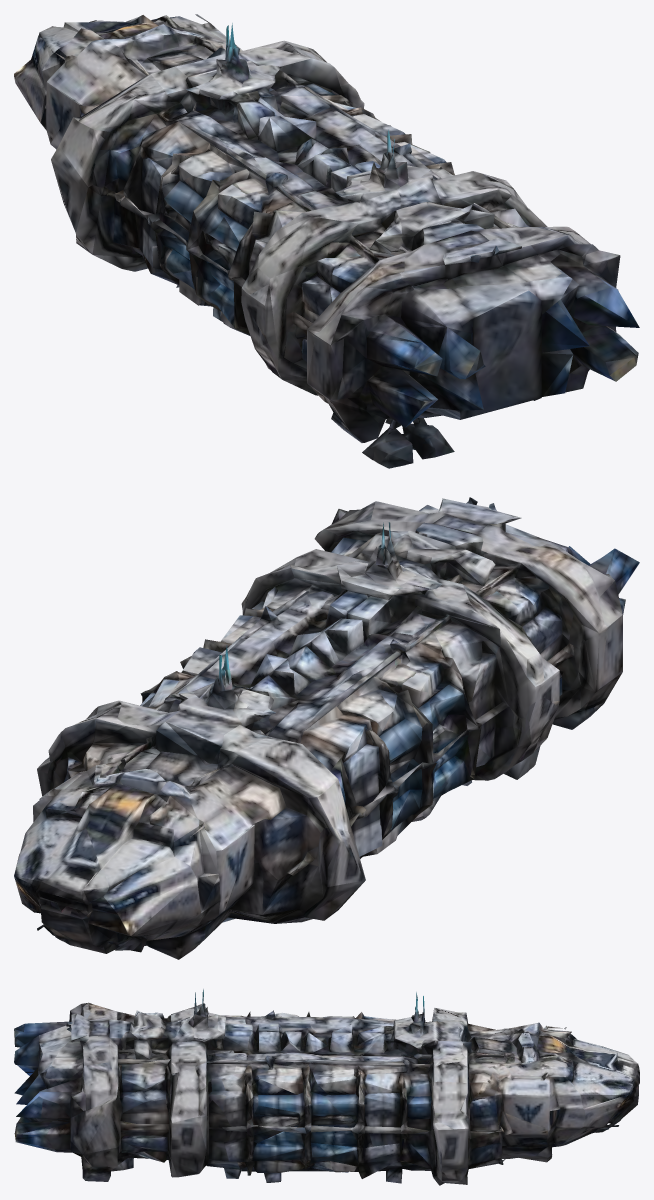
File: big_tanker.glb
The picture shows the model from 3 angles, top to bottom: view 1: azimuth 30°, elevation 25°; view 2: azimuth 150°, elevation 25°; view 3: azimuth 270°, elevation 25°; orthographic projection. The views are drawn at different scales.
Visible parts, largest first — view 1: bigtanker; view 2: bigtanker; view 3: bigtanker.
Boxes of the visible parts, <box> form: bigtanker: <box>14,14,639,468</box>; bigtanker: <box>14,497,639,959</box>; bigtanker: <box>14,989,639,1185</box>.
Size of the model in its own units: 0.3352 by 0.2994 by 0.8903.
1 material, 1 textured.
